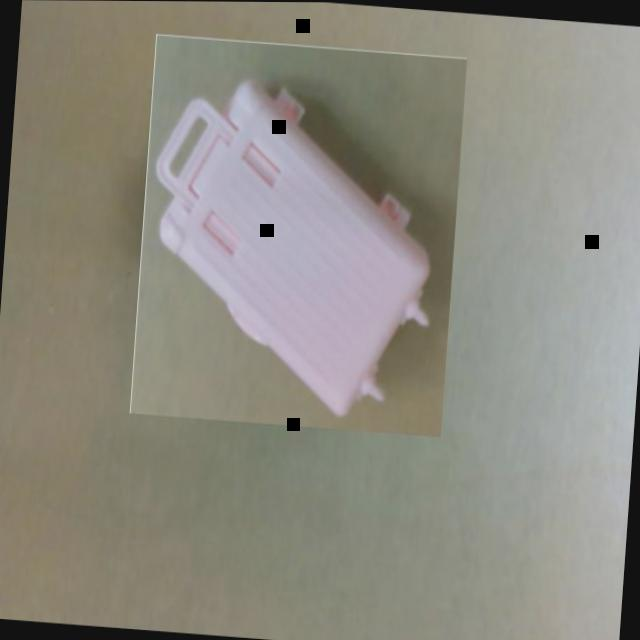luggage: (130, 34, 468, 438)
